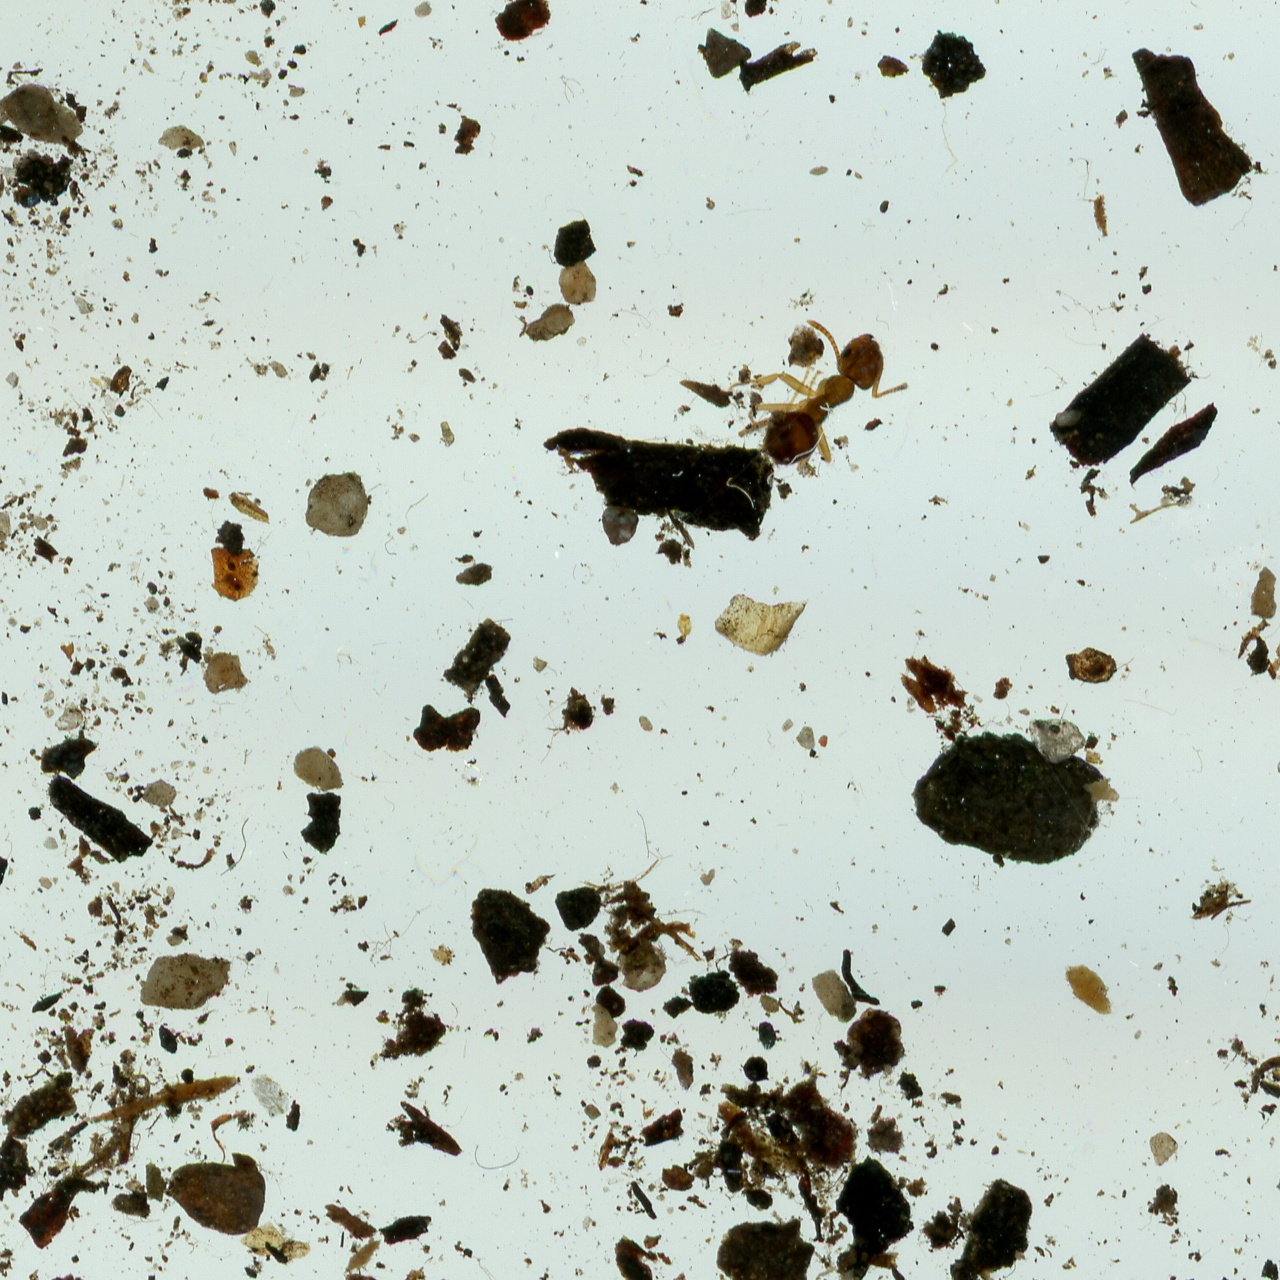arthropod: (704, 281, 926, 508)
